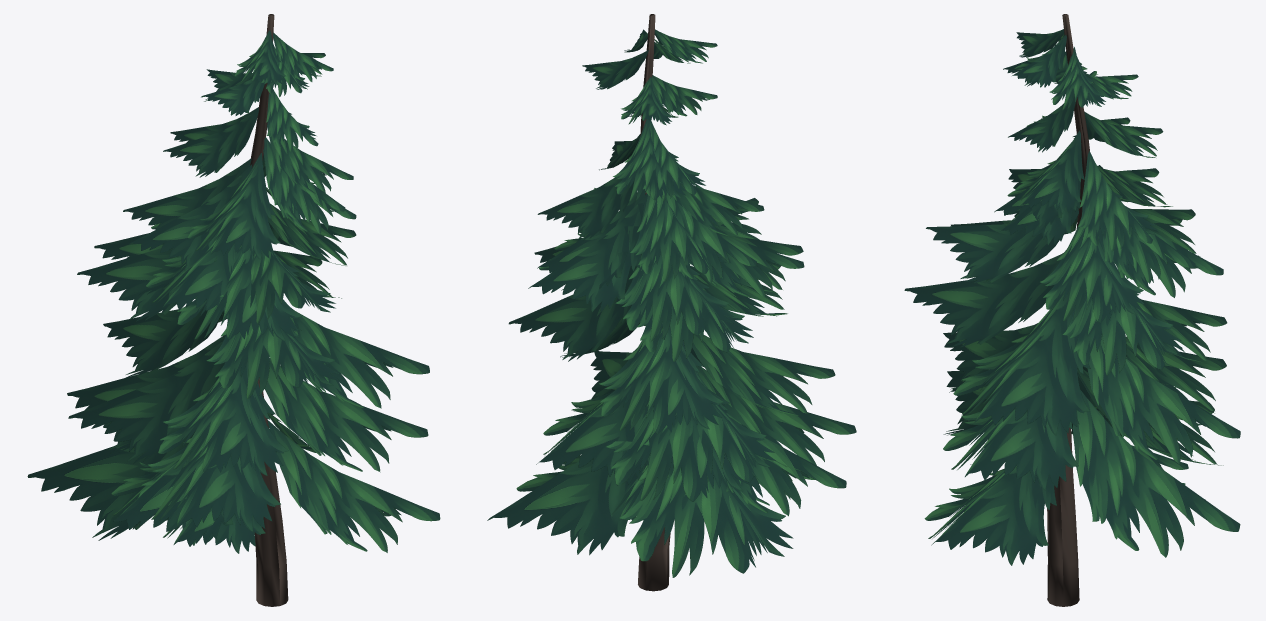
3 renders of one model, left to right at view 1: azimuth 30°, elevation 25°; view 2: azimuth 150°, elevation 25°; view 3: azimuth 270°, elevation 25°, orthographic. The views are drawn at different scales.
Parts seen in each view (by area): view 1: AR2_LOD00; view 2: AR2_LOD00; view 3: AR2_LOD00.
Boxes of the visible parts, left/top/right/bottom form: AR2_LOD00: left=27, top=14, right=440, bottom=606; AR2_LOD00: left=487, top=14, right=856, bottom=591; AR2_LOD00: left=904, top=14, right=1240, bottom=606.
Size of what is drawn, in the model's own units: 1507 by 2700 by 1494.
